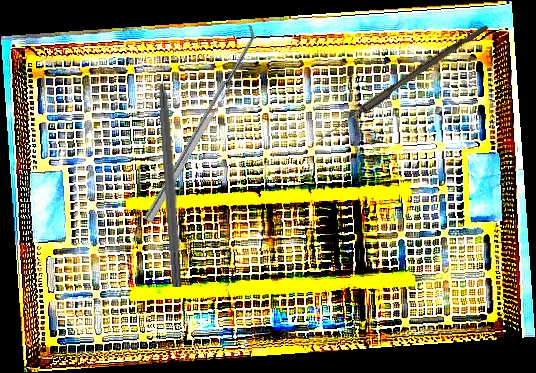Hook Surgical: (154, 56, 186, 288)
Spatula Surgical: (136, 23, 262, 223)
Surgical Spoon: (315, 20, 489, 146)
